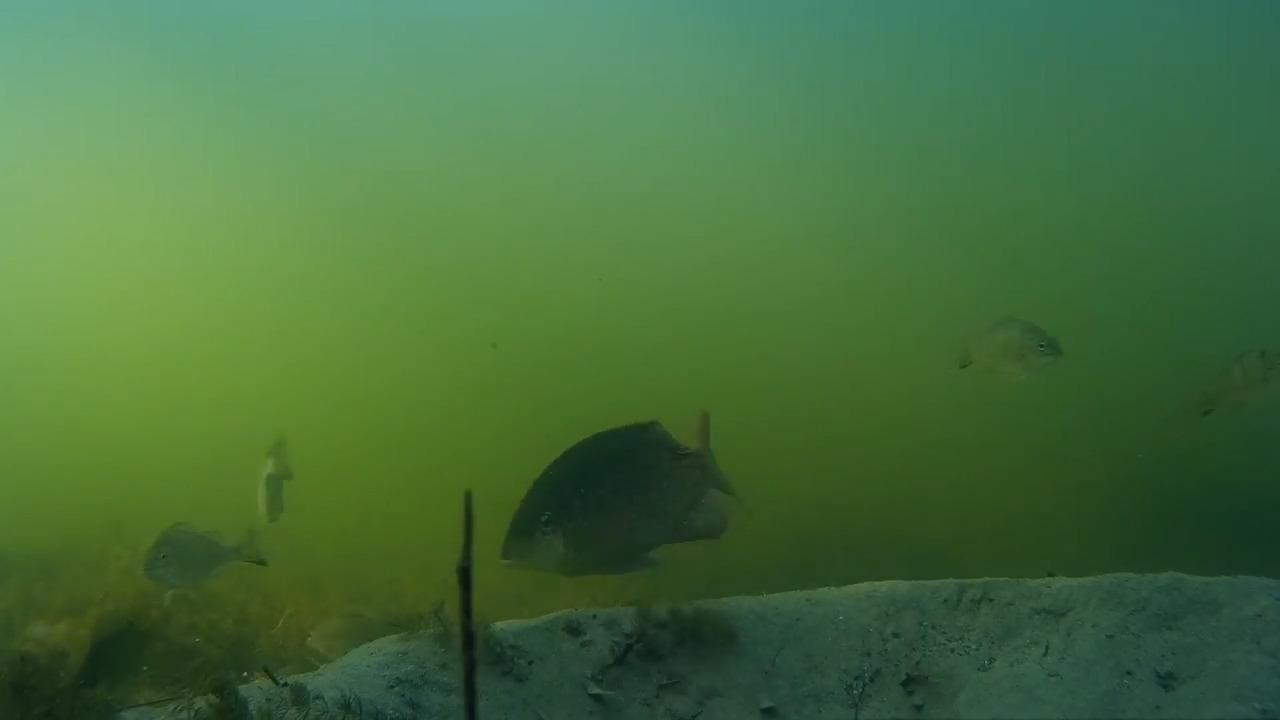Tilapia: (494, 410, 761, 585), (1181, 334, 1280, 454), (141, 512, 280, 592), (948, 317, 1074, 383), (231, 426, 304, 518)
